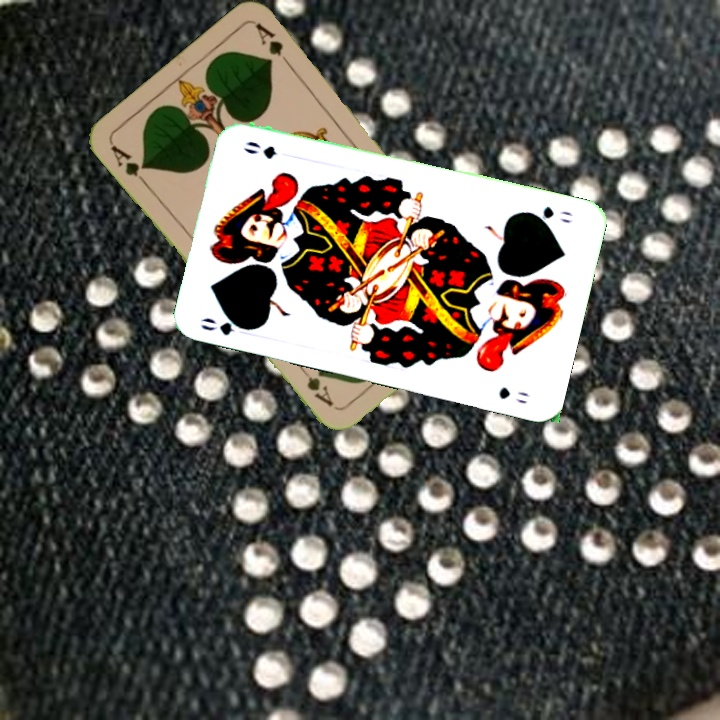GA: (106, 140, 151, 189)
GO: (197, 311, 256, 338), (521, 202, 574, 226)
